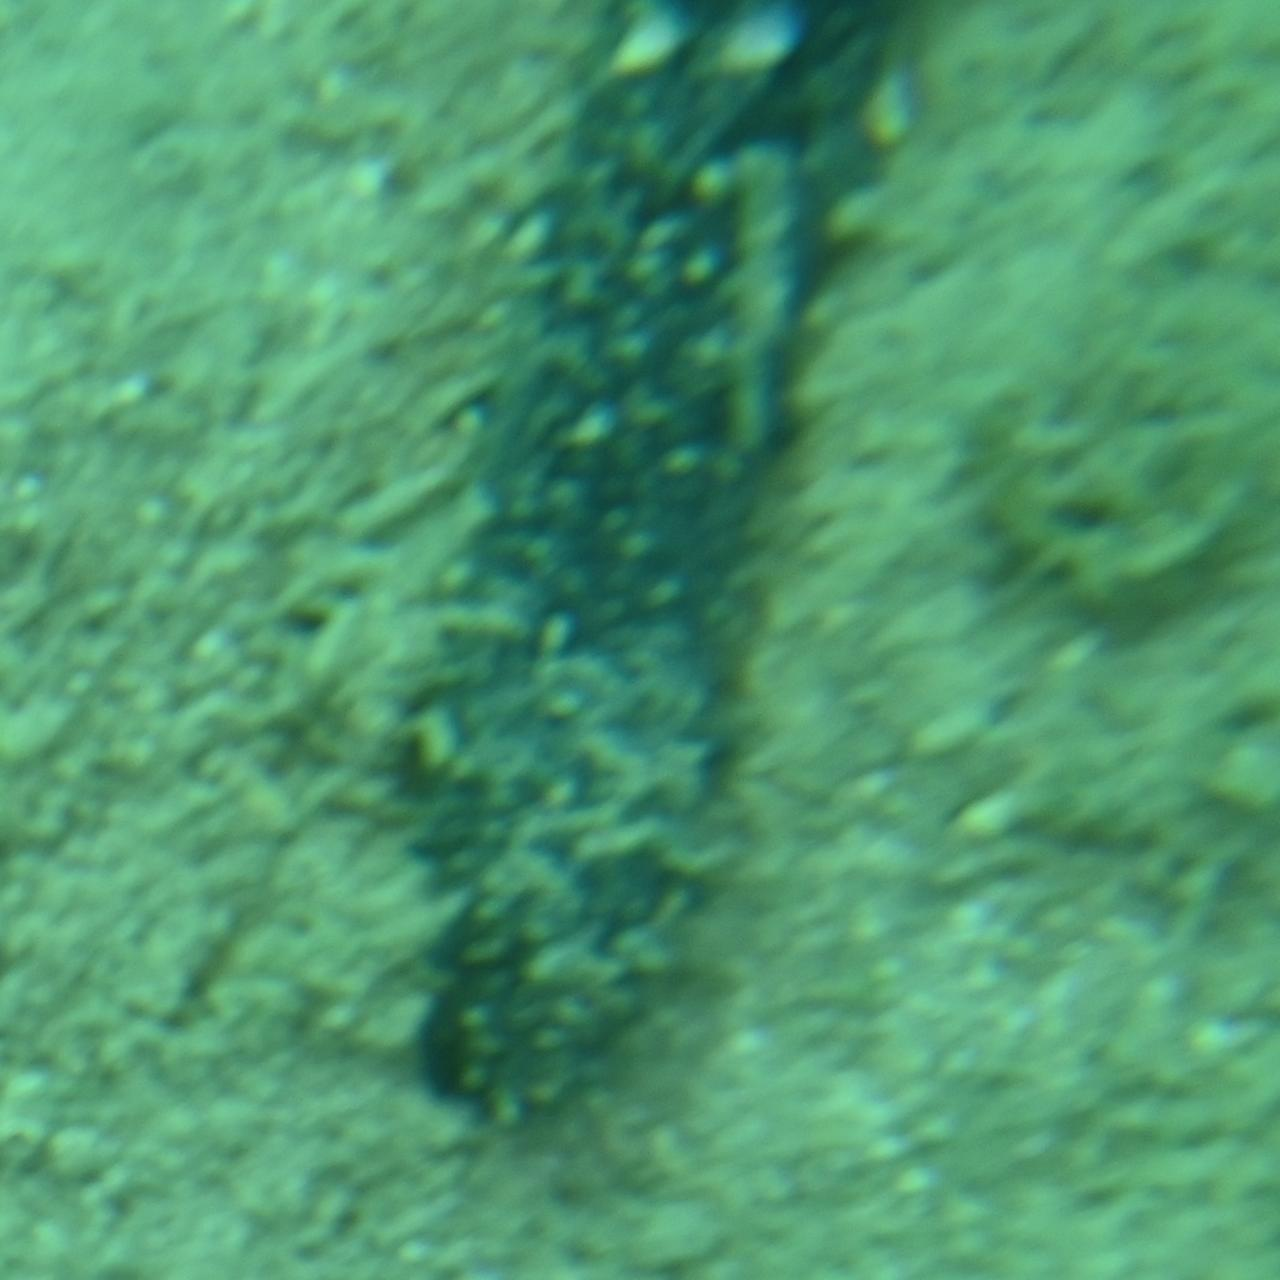Holothuria tubulosa: (356, 1, 924, 1154)
